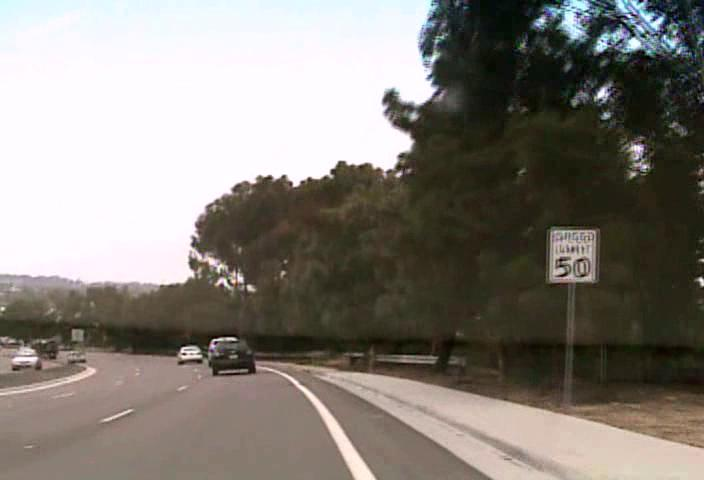speedLimit50: (545, 227, 599, 284)
